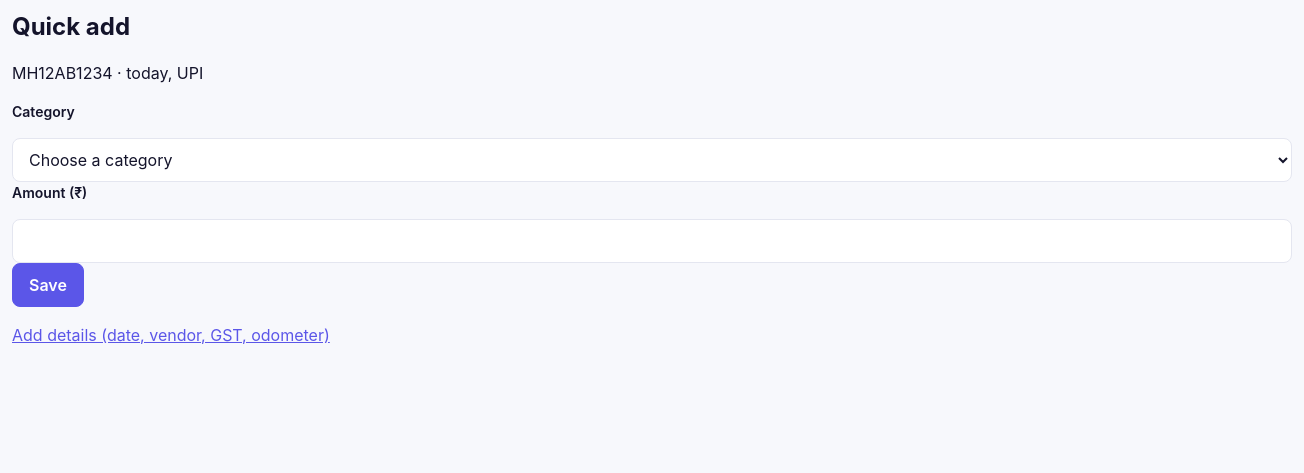
Test: Quick add (FR-EXP-09, TC-EXP-10) › asks for a category and amount before saving
Expected: the dropdown labelled "Category" is shown, [12,138,1292,182]
Click the button "Save".
click(48, 285)  # box [12,263,84,307]
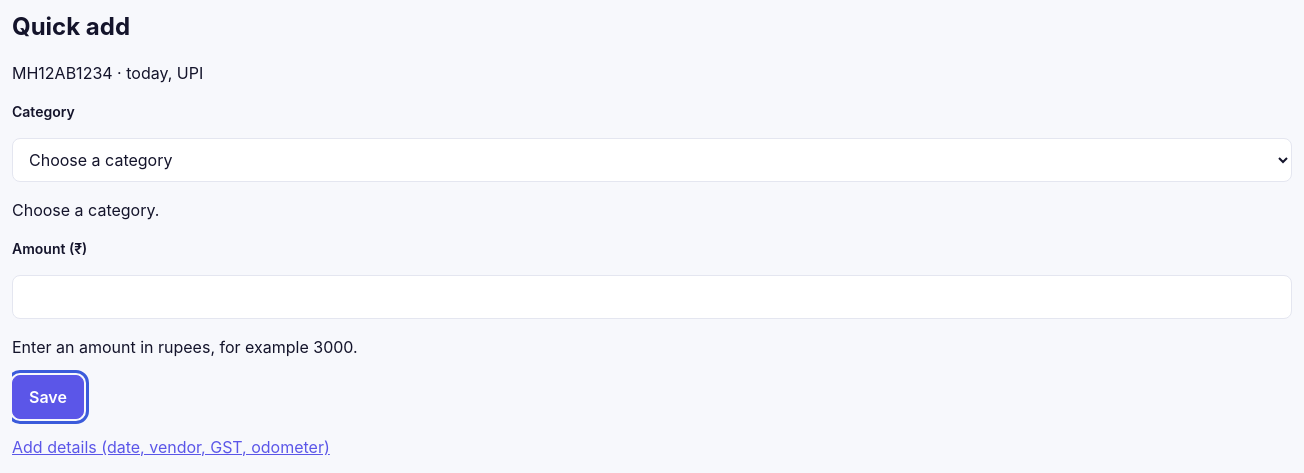
Expected: the text "Choose a category." is shown, [12,200,159,220]
